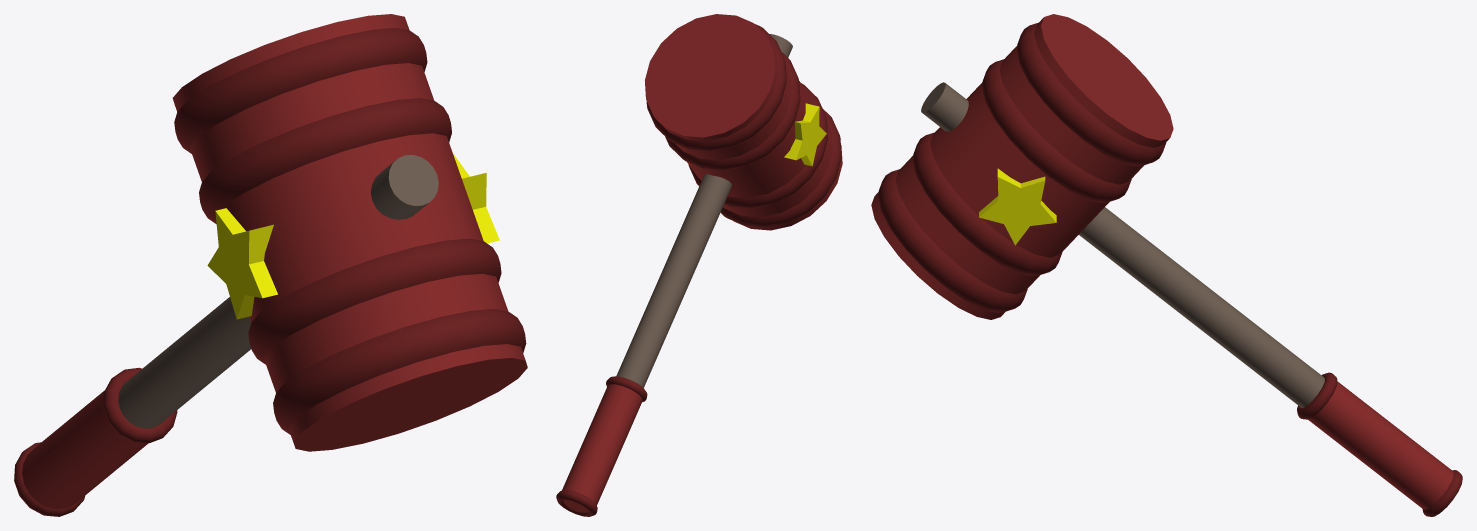
The model's file is Toy Hammer.fbx.
3 renders of one model, left to right at view 1: azimuth 30°, elevation 25°; view 2: azimuth 150°, elevation 25°; view 3: azimuth 270°, elevation 25°, orthographic. The views are drawn at different scales.
Visible parts, largest first — view 1: Head, Handle_Wood, Handle, Star; view 2: Head, Handle_Wood, Handle, Star; view 3: Head, Handle_Wood, Handle, Star.
Boxes of the visible parts, x1,y1,x2,y2 form: Head: [172, 14, 527, 451]; Handle_Wood: [118, 155, 438, 428]; Handle: [14, 367, 177, 516]; Star: [207, 153, 499, 319]; Head: [645, 14, 842, 230]; Handle_Wood: [616, 34, 792, 387]; Handle: [556, 376, 647, 516]; Star: [784, 103, 826, 166]; Head: [871, 14, 1173, 319]; Handle_Wood: [921, 82, 1324, 407]; Handle: [1297, 372, 1462, 516]; Star: [979, 168, 1056, 245].
Size of the model in its own units: 7.23 by 20.24 by 22.22.
